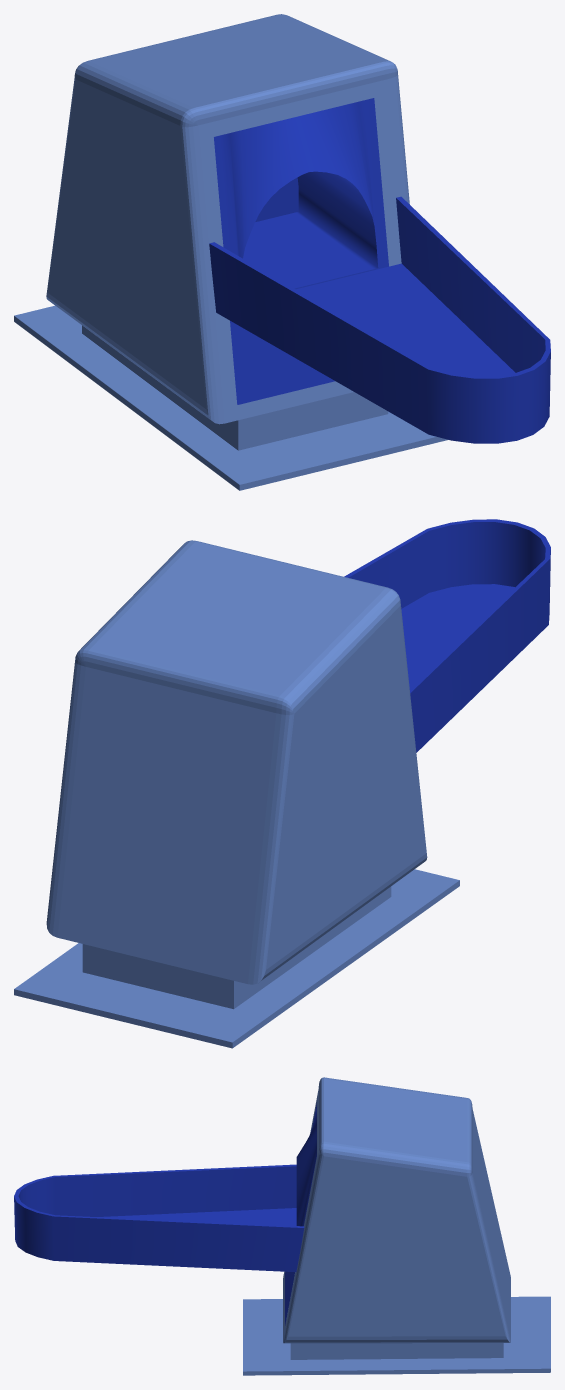
The model's file is Ob_Bowling Ball Dispenser.FBX.
3 renders of one model, top to bottom at view 1: azimuth 30°, elevation 25°; view 2: azimuth 150°, elevation 25°; view 3: azimuth 270°, elevation 25°, orthographic. The views are drawn at different scales.
Visible parts, largest first — view 1: Bowling Ball Dispenser, Bowling Ball Dispenser Add on; view 2: Bowling Ball Dispenser, Bowling Ball Dispenser Add on; view 3: Bowling Ball Dispenser, Bowling Ball Dispenser Add on.
Boxes of the visible parts, x1,y1,x2,y2 form: Bowling Ball Dispenser: [14, 14, 448, 490]; Bowling Ball Dispenser Add on: [209, 98, 550, 443]; Bowling Ball Dispenser: [14, 540, 459, 1048]; Bowling Ball Dispenser Add on: [344, 519, 550, 752]; Bowling Ball Dispenser: [243, 1077, 550, 1375]; Bowling Ball Dispenser Add on: [14, 1103, 316, 1325].
Size of the model in its own units: 1.14 by 1.69 by 3.58.
